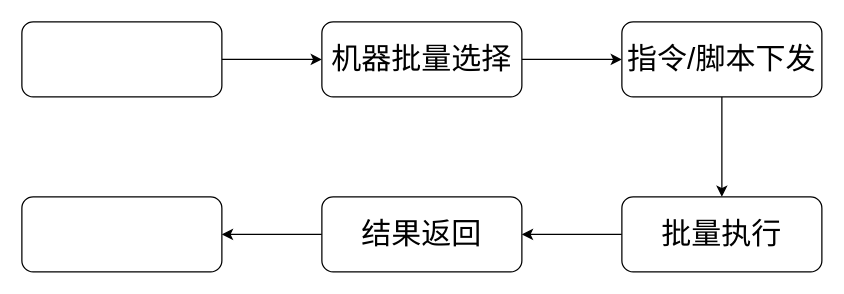
Some shapes in this 844 by 294 pixel diagram are drawn without their labels. The centre of each missing label's shape, as x and y in pixels:
结果检查: pixel 121 234
高级搜索: pixel 121 59
